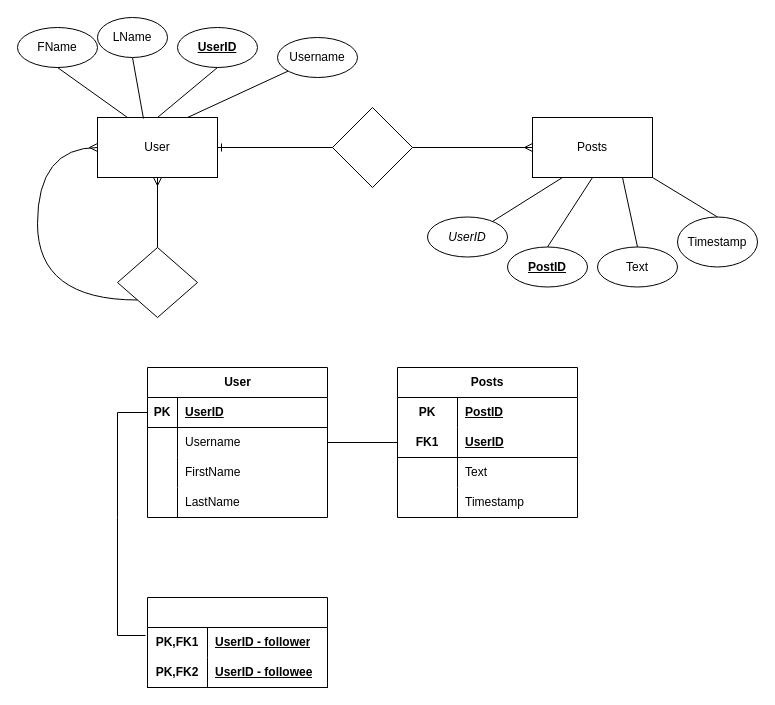
Some shapes in this 775 by 705 pixel diagram are drawn without their labels. Each missing label, with the box of its shape:
CRUD: (332, 106, 412, 188)
Followers: (146, 596, 328, 688)
Follows: (116, 246, 198, 318)
